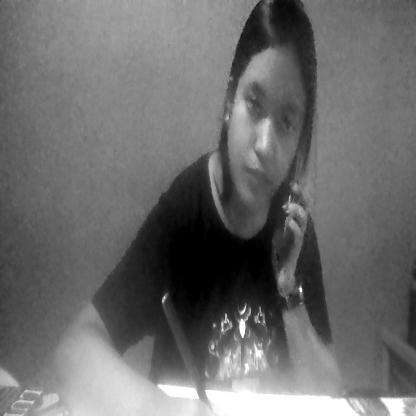Normal: (214, 11, 328, 230)
